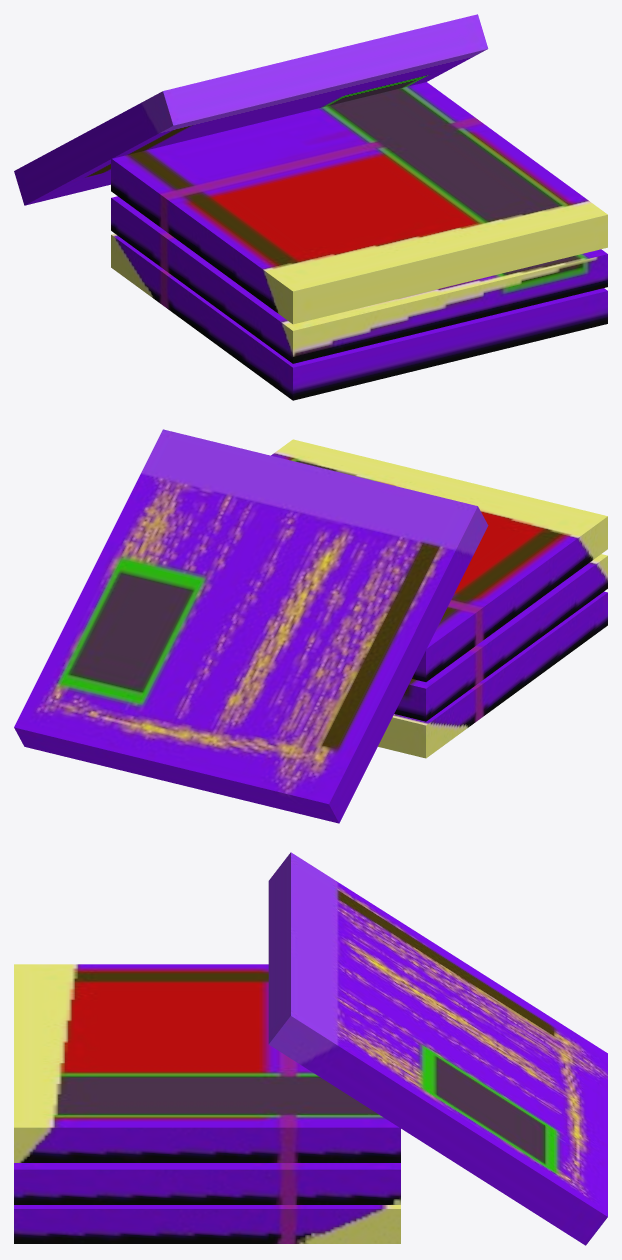
File: pila cd.FBX
The picture shows the model from 3 angles, top to bottom: view 1: azimuth 30°, elevation 25°; view 2: azimuth 150°, elevation 25°; view 3: azimuth 270°, elevation 25°; orthographic projection. The views are drawn at different scales.
Parts seen in each view (by area): view 1: pila cd; view 2: pila cd; view 3: pila cd.
Boxes of the visible parts, <box> form: pila cd: <box>14,14,607,400</box>; pila cd: <box>14,429,607,823</box>; pila cd: <box>14,852,607,1245</box>.
Size of the model in its own units: 0.2 by 0.1311 by 0.3069.
